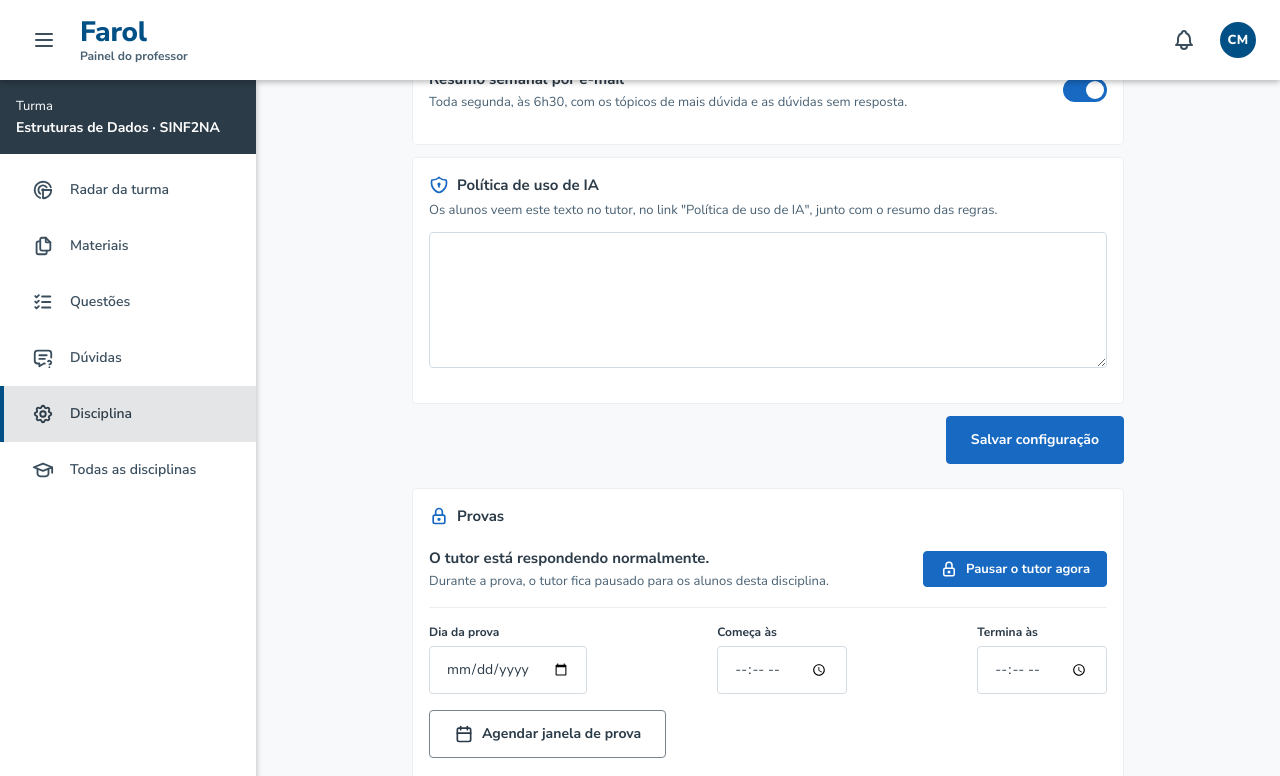
configuração do tutor pelo professor (TUT-T43) › avisa quando não consegue salvar
The width and height of the screenshot is (1280, 776).
(page scrolled)
What coordinates should you click on to do the following:
click the button "Salvar configuração"
I would click on:
 (1035, 440)
Its box is [946,416,1124,464].
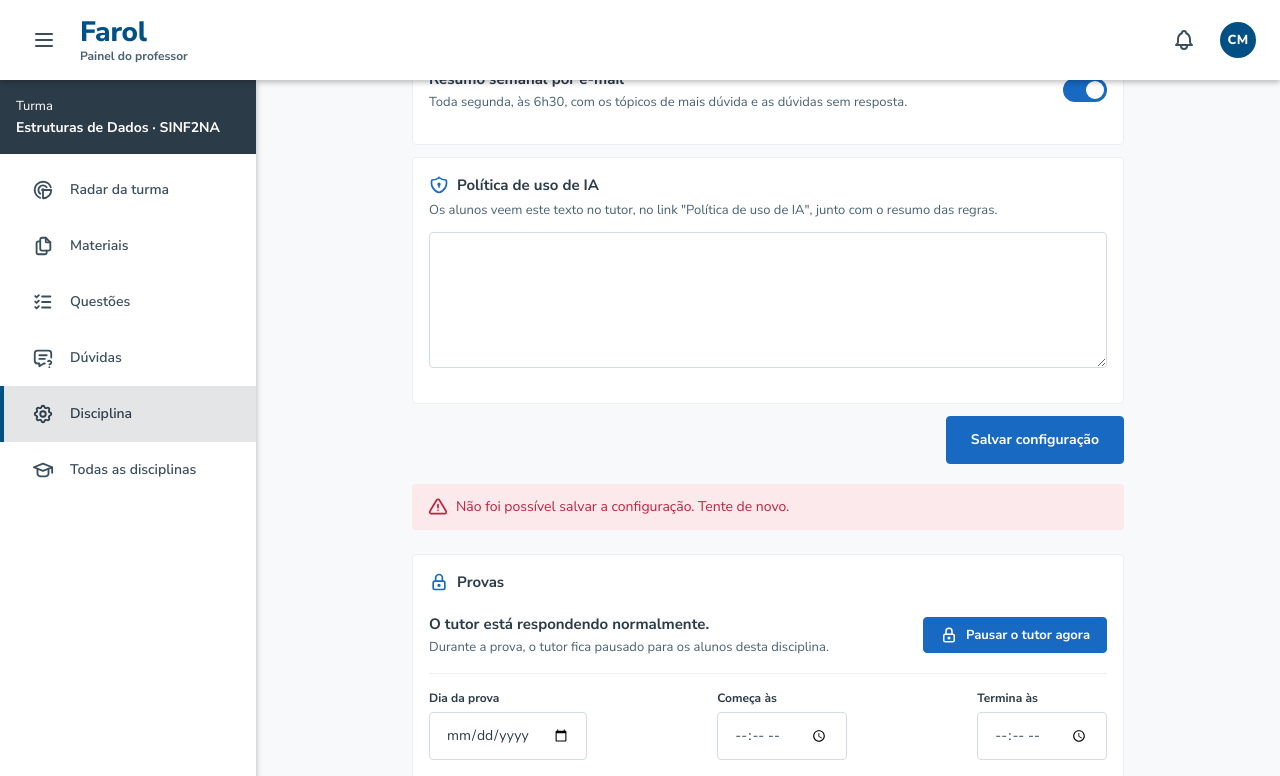
Result: the message "Não foi possível salvar a configuração. Tente de novo." is shown at [412,484,1124,530]
